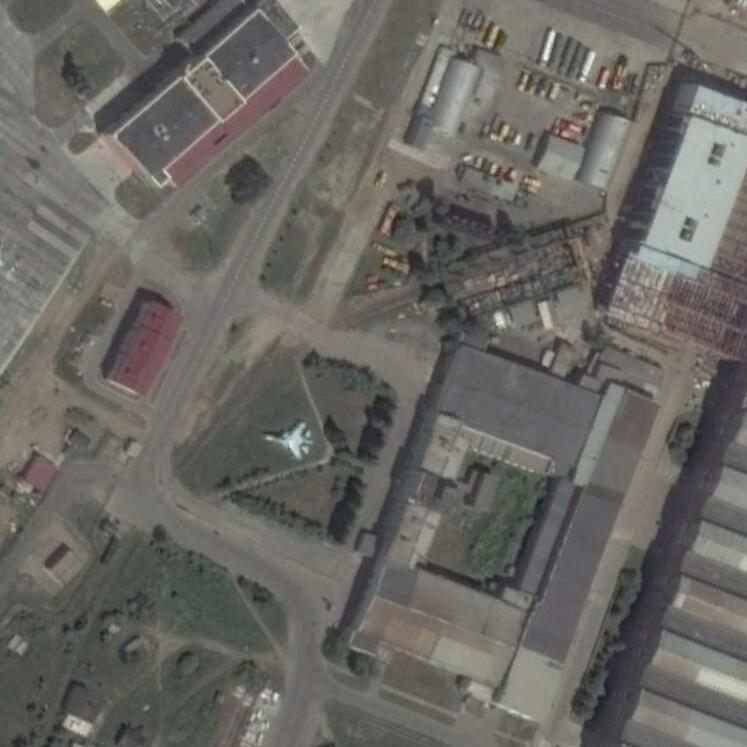A19: (261, 417, 314, 459)
